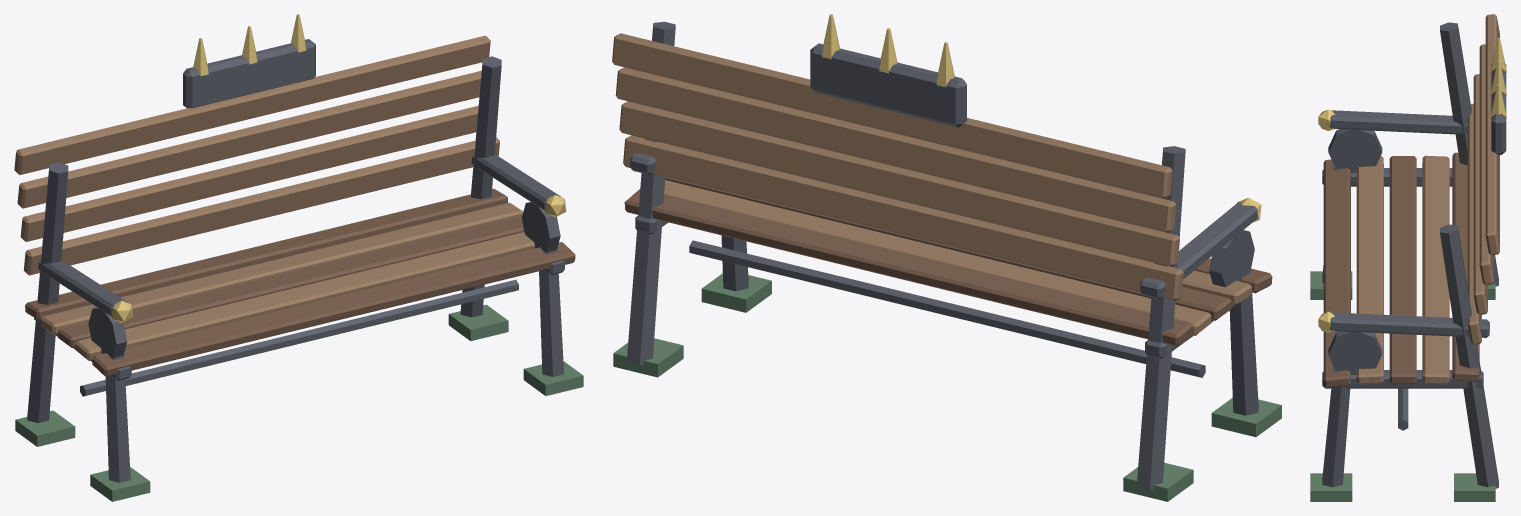
The model's file is outdoor_bench.glb.
3 renders of one model, left to right at view 1: azimuth 30°, elevation 25°; view 2: azimuth 150°, elevation 25°; view 3: azimuth 270°, elevation 25°, orthographic. The views are drawn at different scales.
Visible parts, largest first — view 1: Outdoor_Bench; view 2: Outdoor_Bench; view 3: Outdoor_Bench.
Boxes of the visible parts, bbox=[...] form: Outdoor_Bench: bbox=[14, 14, 583, 501]; Outdoor_Bench: bbox=[612, 14, 1281, 501]; Outdoor_Bench: bbox=[1310, 14, 1506, 501].
Size of the model in its own units: 1.74 by 1.22 by 0.656.
